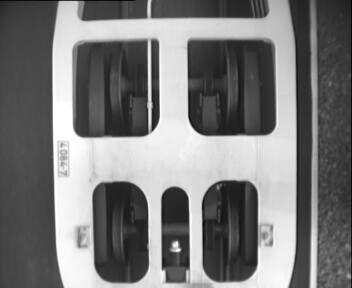wagon_scan: (84, 174, 272, 288)
